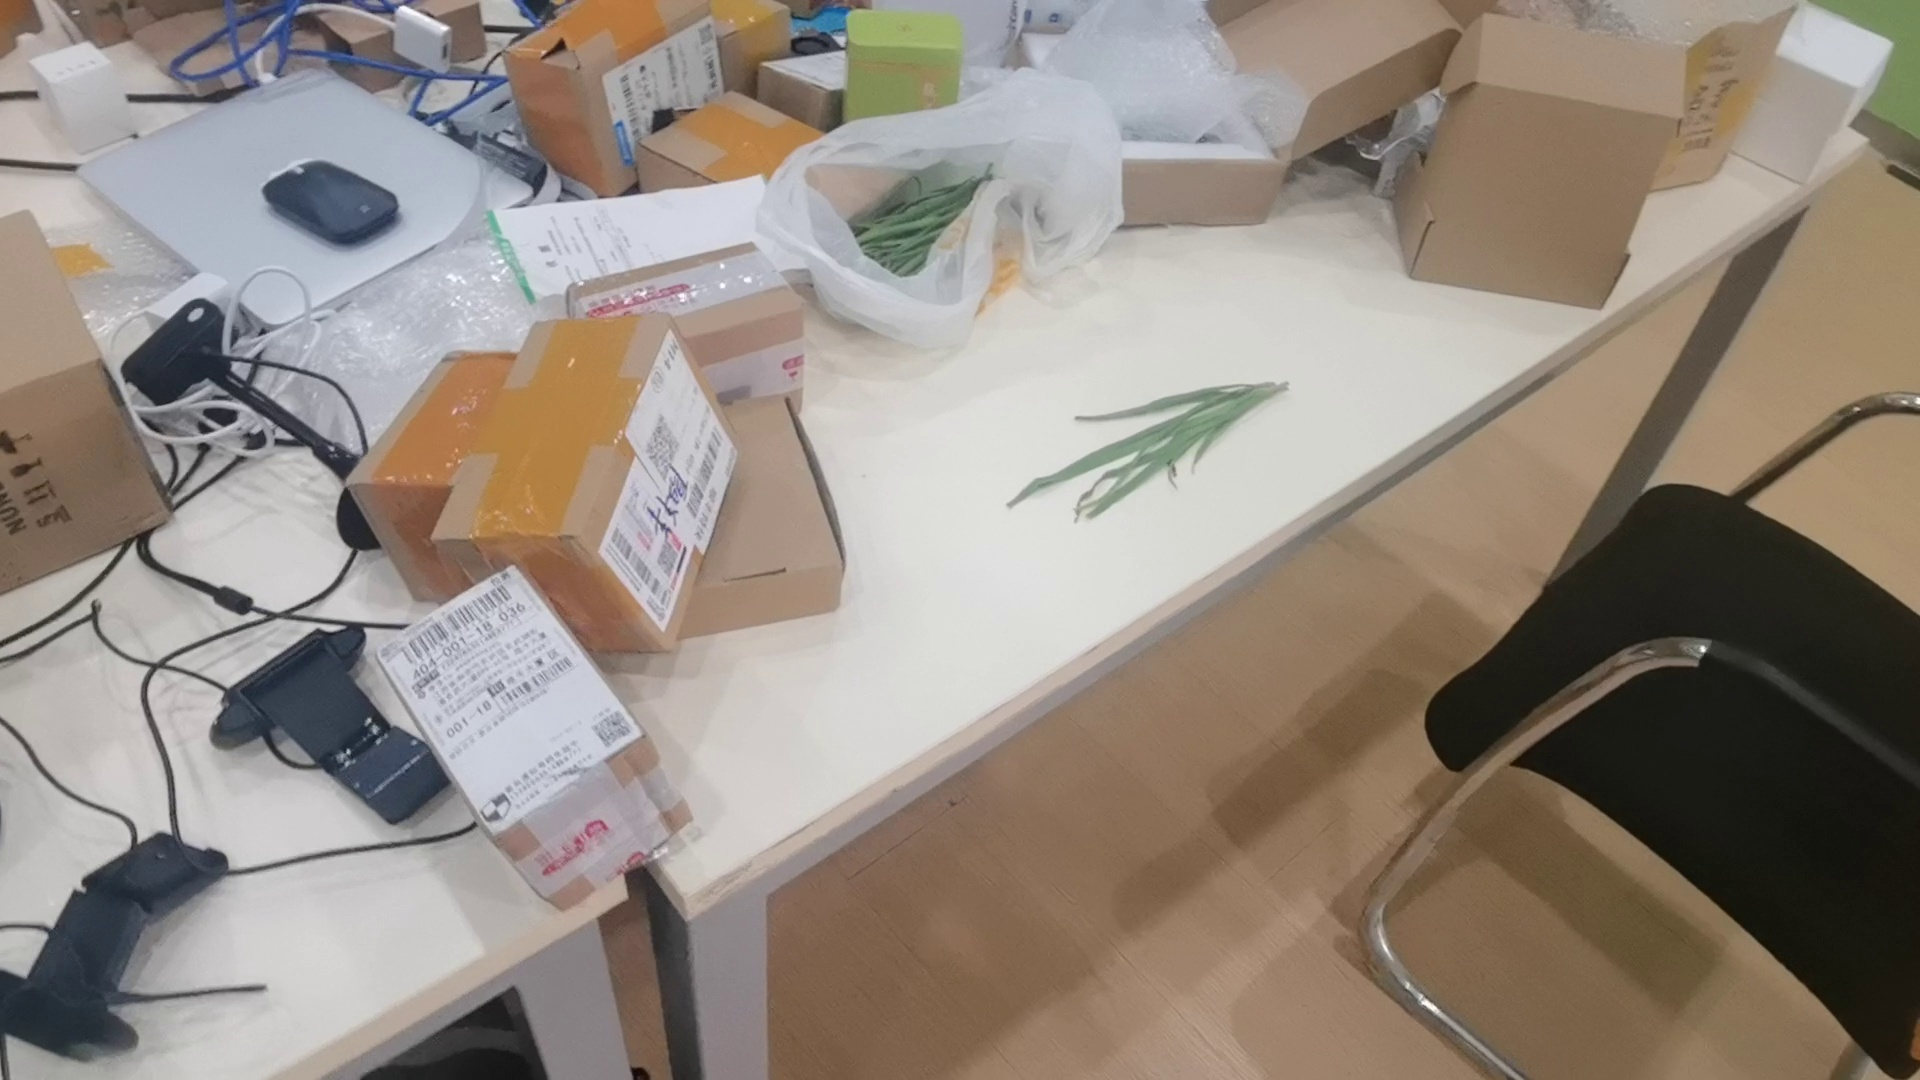chives: (1005, 376, 1291, 527)
